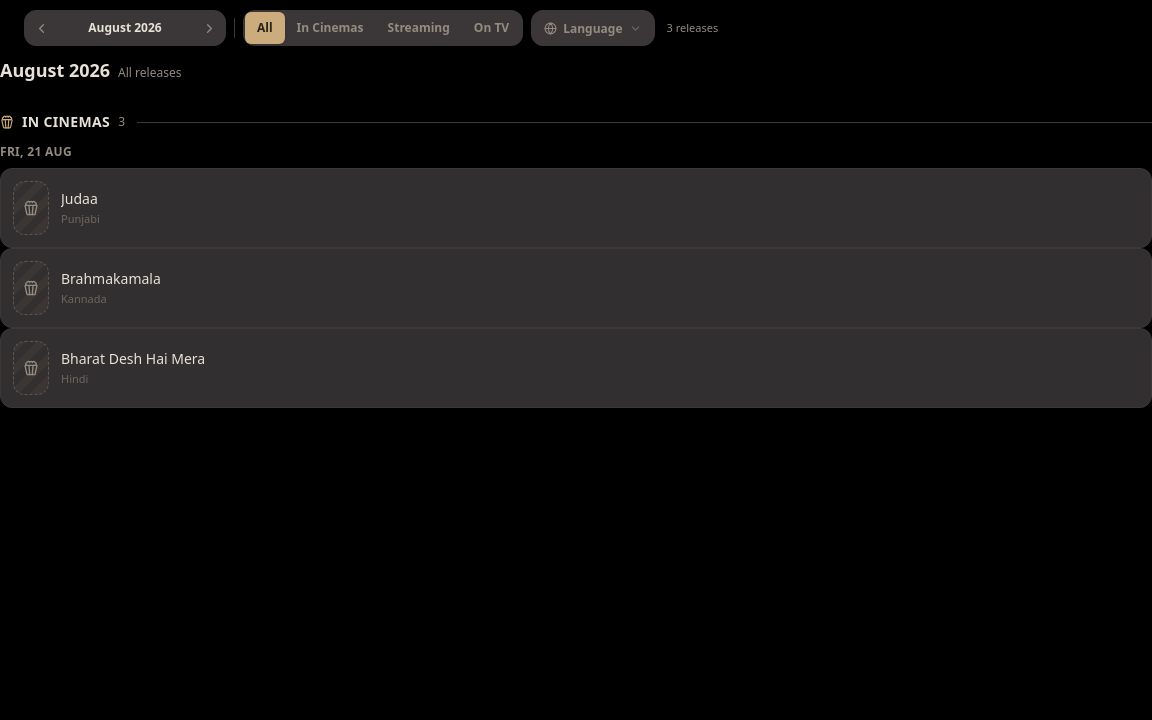
Test: Calendar language display and filter › picking a second language adds to the filter instead of replacing it
The width and height of the screenshot is (1152, 720).
Expected: the text "Judaa" is shown, [61,189,98,208]
Click the button "Language" at (593, 28), box [532,11,654,45]
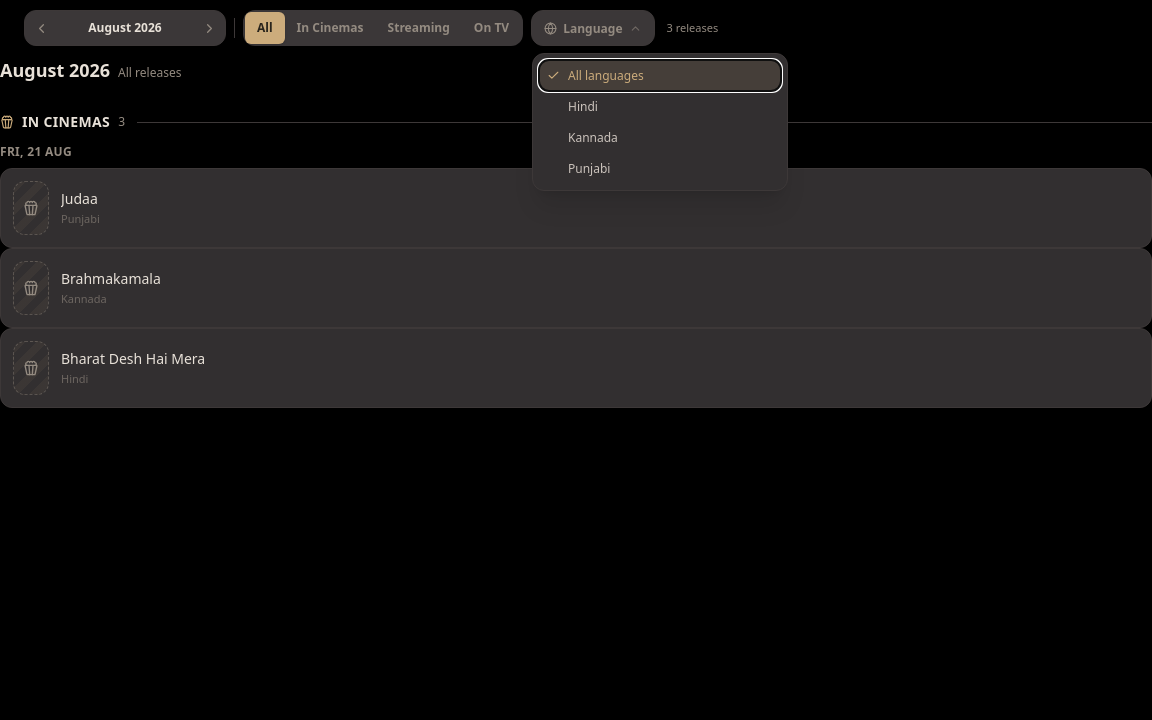
Click the button "Punjabi" at (660, 168), box [539,153,781,184]
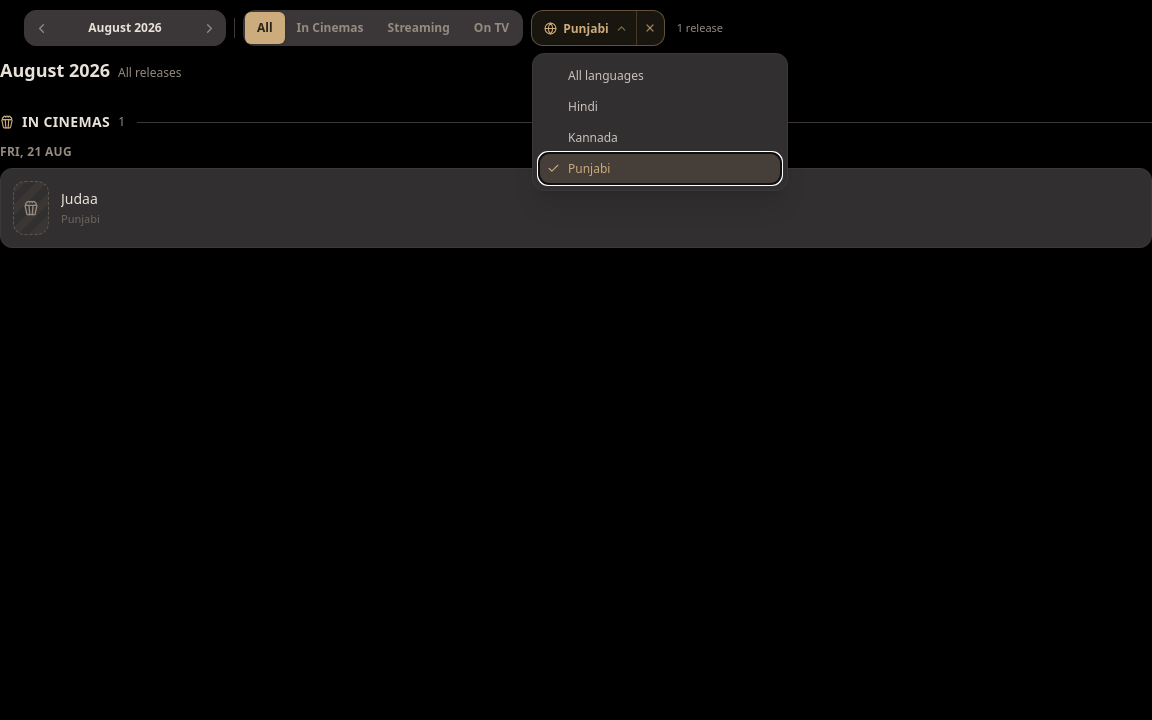
Now the dialog is shown, box [532,53,788,191]
Click the button "Kannada" at (660, 138), box [539,122,781,153]
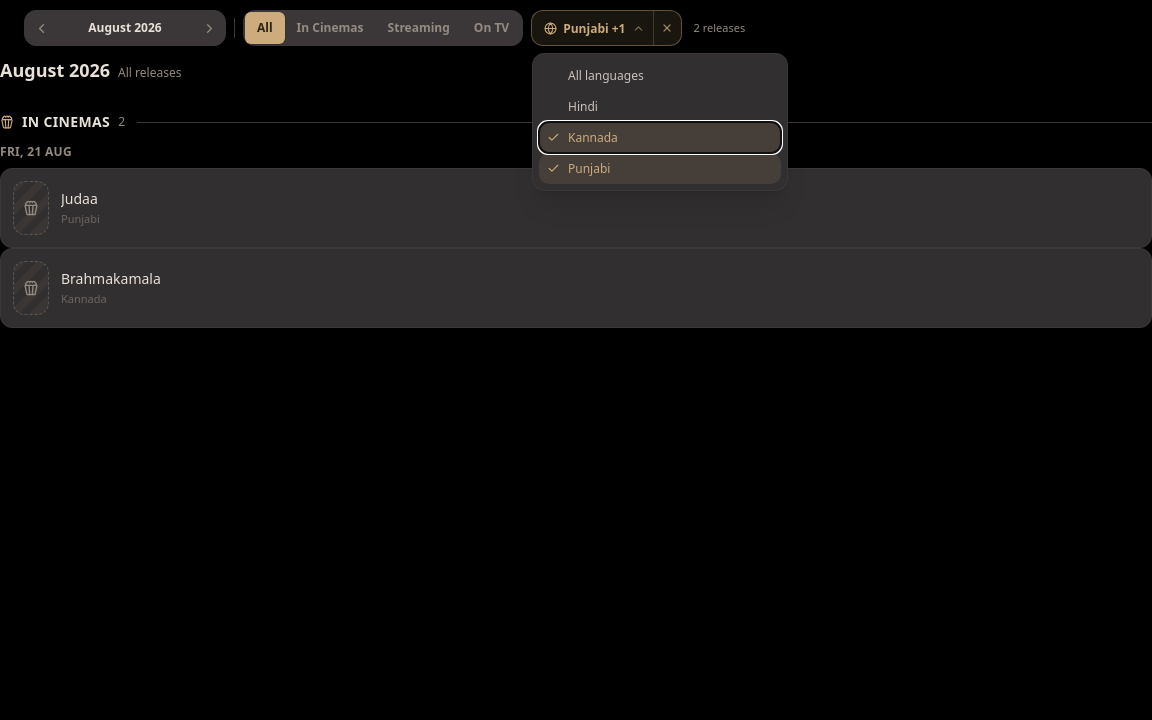
Expected: the text "Judaa" is shown, [61,189,98,208]
Now the text "Brahmakamala" is shown, box [61,269,161,288]
